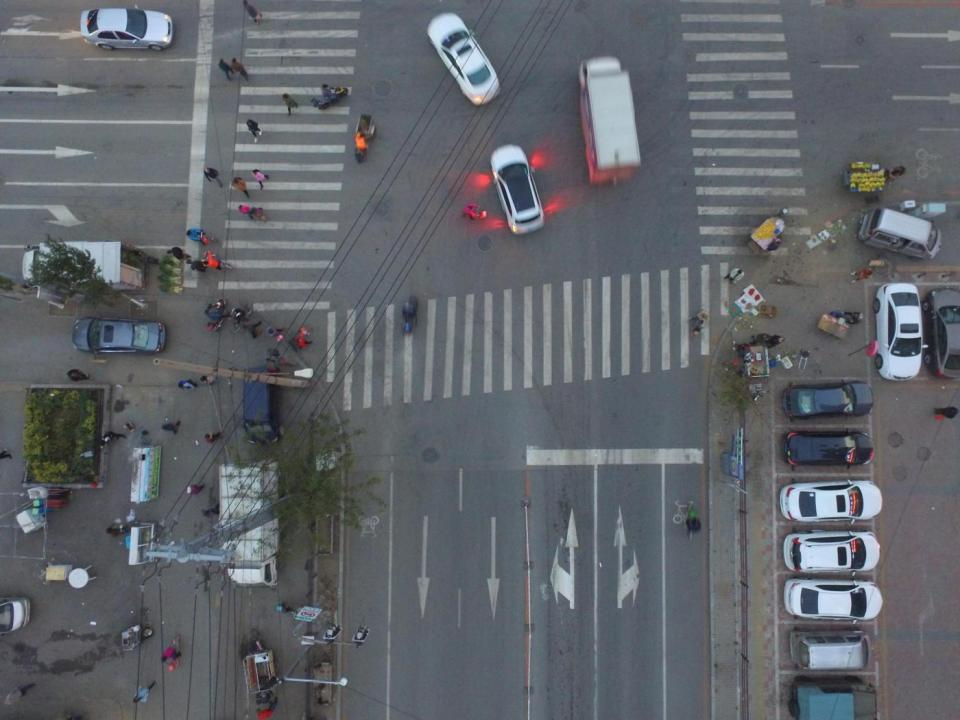car: (425, 12, 502, 106), (873, 283, 928, 382), (490, 144, 545, 236), (784, 577, 885, 623), (783, 528, 881, 575), (779, 480, 884, 522), (79, 6, 173, 49), (73, 315, 166, 358), (782, 380, 875, 420), (782, 430, 874, 468), (925, 287, 960, 382)
truck: (577, 56, 644, 185), (219, 461, 278, 596), (22, 243, 149, 293)
van: (858, 206, 947, 262), (788, 676, 880, 720), (788, 630, 873, 670), (243, 368, 278, 442)
